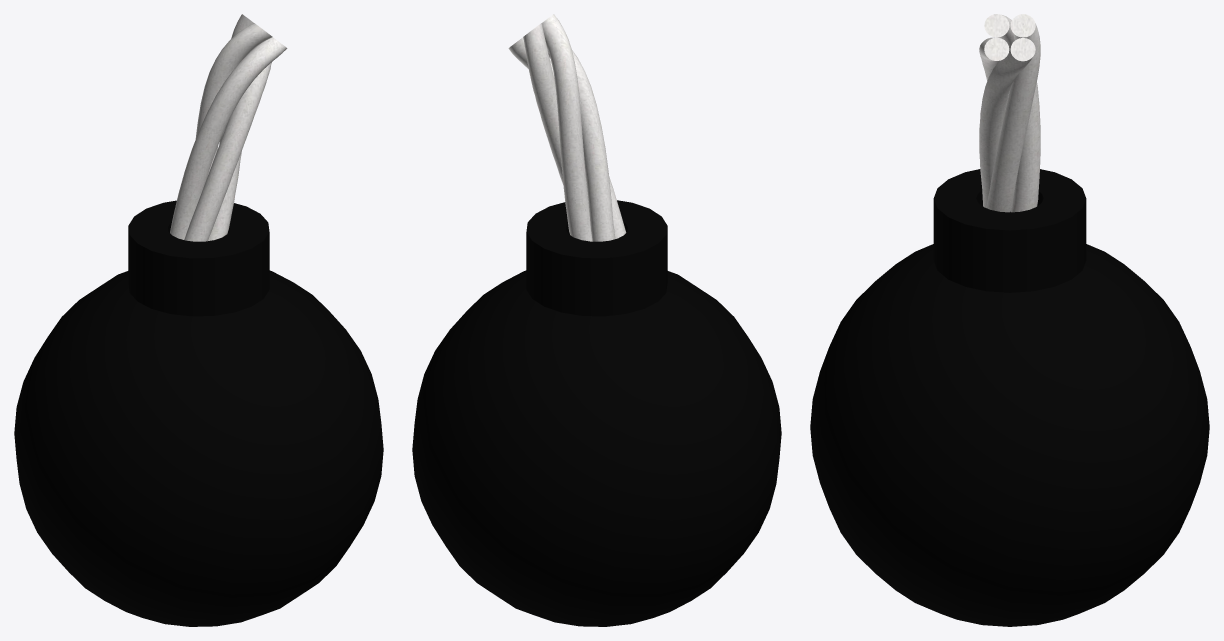
Rendered from bomb-round-game.glb.
3 views of the same model, side by side, from view 1: azimuth 30°, elevation 25°; view 2: azimuth 150°, elevation 25°; view 3: azimuth 270°, elevation 25° (orthographic). The views are drawn at different scales.
Parts seen in each view (by area): view 1: bomblvl1 pPipe1, pCylinder14 bomblvl1; view 2: bomblvl1 pPipe1, pCylinder14 bomblvl1; view 3: bomblvl1 pPipe1, pCylinder14 bomblvl1.
Boxes of the visible parts, x1,y1,x2,y2 form: bomblvl1 pPipe1: (14,200,383,626); pCylinder14 bomblvl1: (170,14,287,241); bomblvl1 pPipe1: (412,200,781,626); pCylinder14 bomblvl1: (508,14,626,241); bomblvl1 pPipe1: (810,169,1209,626); pCylinder14 bomblvl1: (979,14,1040,212).
Size of the model in its own units: 1.2 by 2.06 by 1.2.
2 materials, 1 textured.
